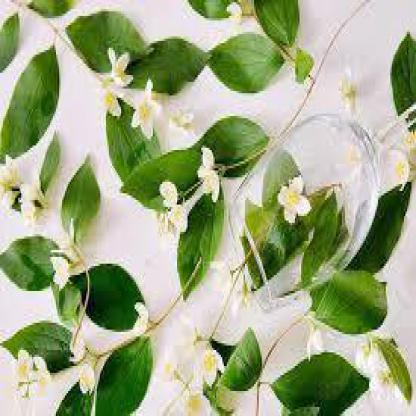Melati: (10, 301, 157, 410), (148, 133, 228, 242), (90, 28, 166, 135), (155, 317, 234, 401), (1, 160, 65, 217), (269, 158, 319, 221)
